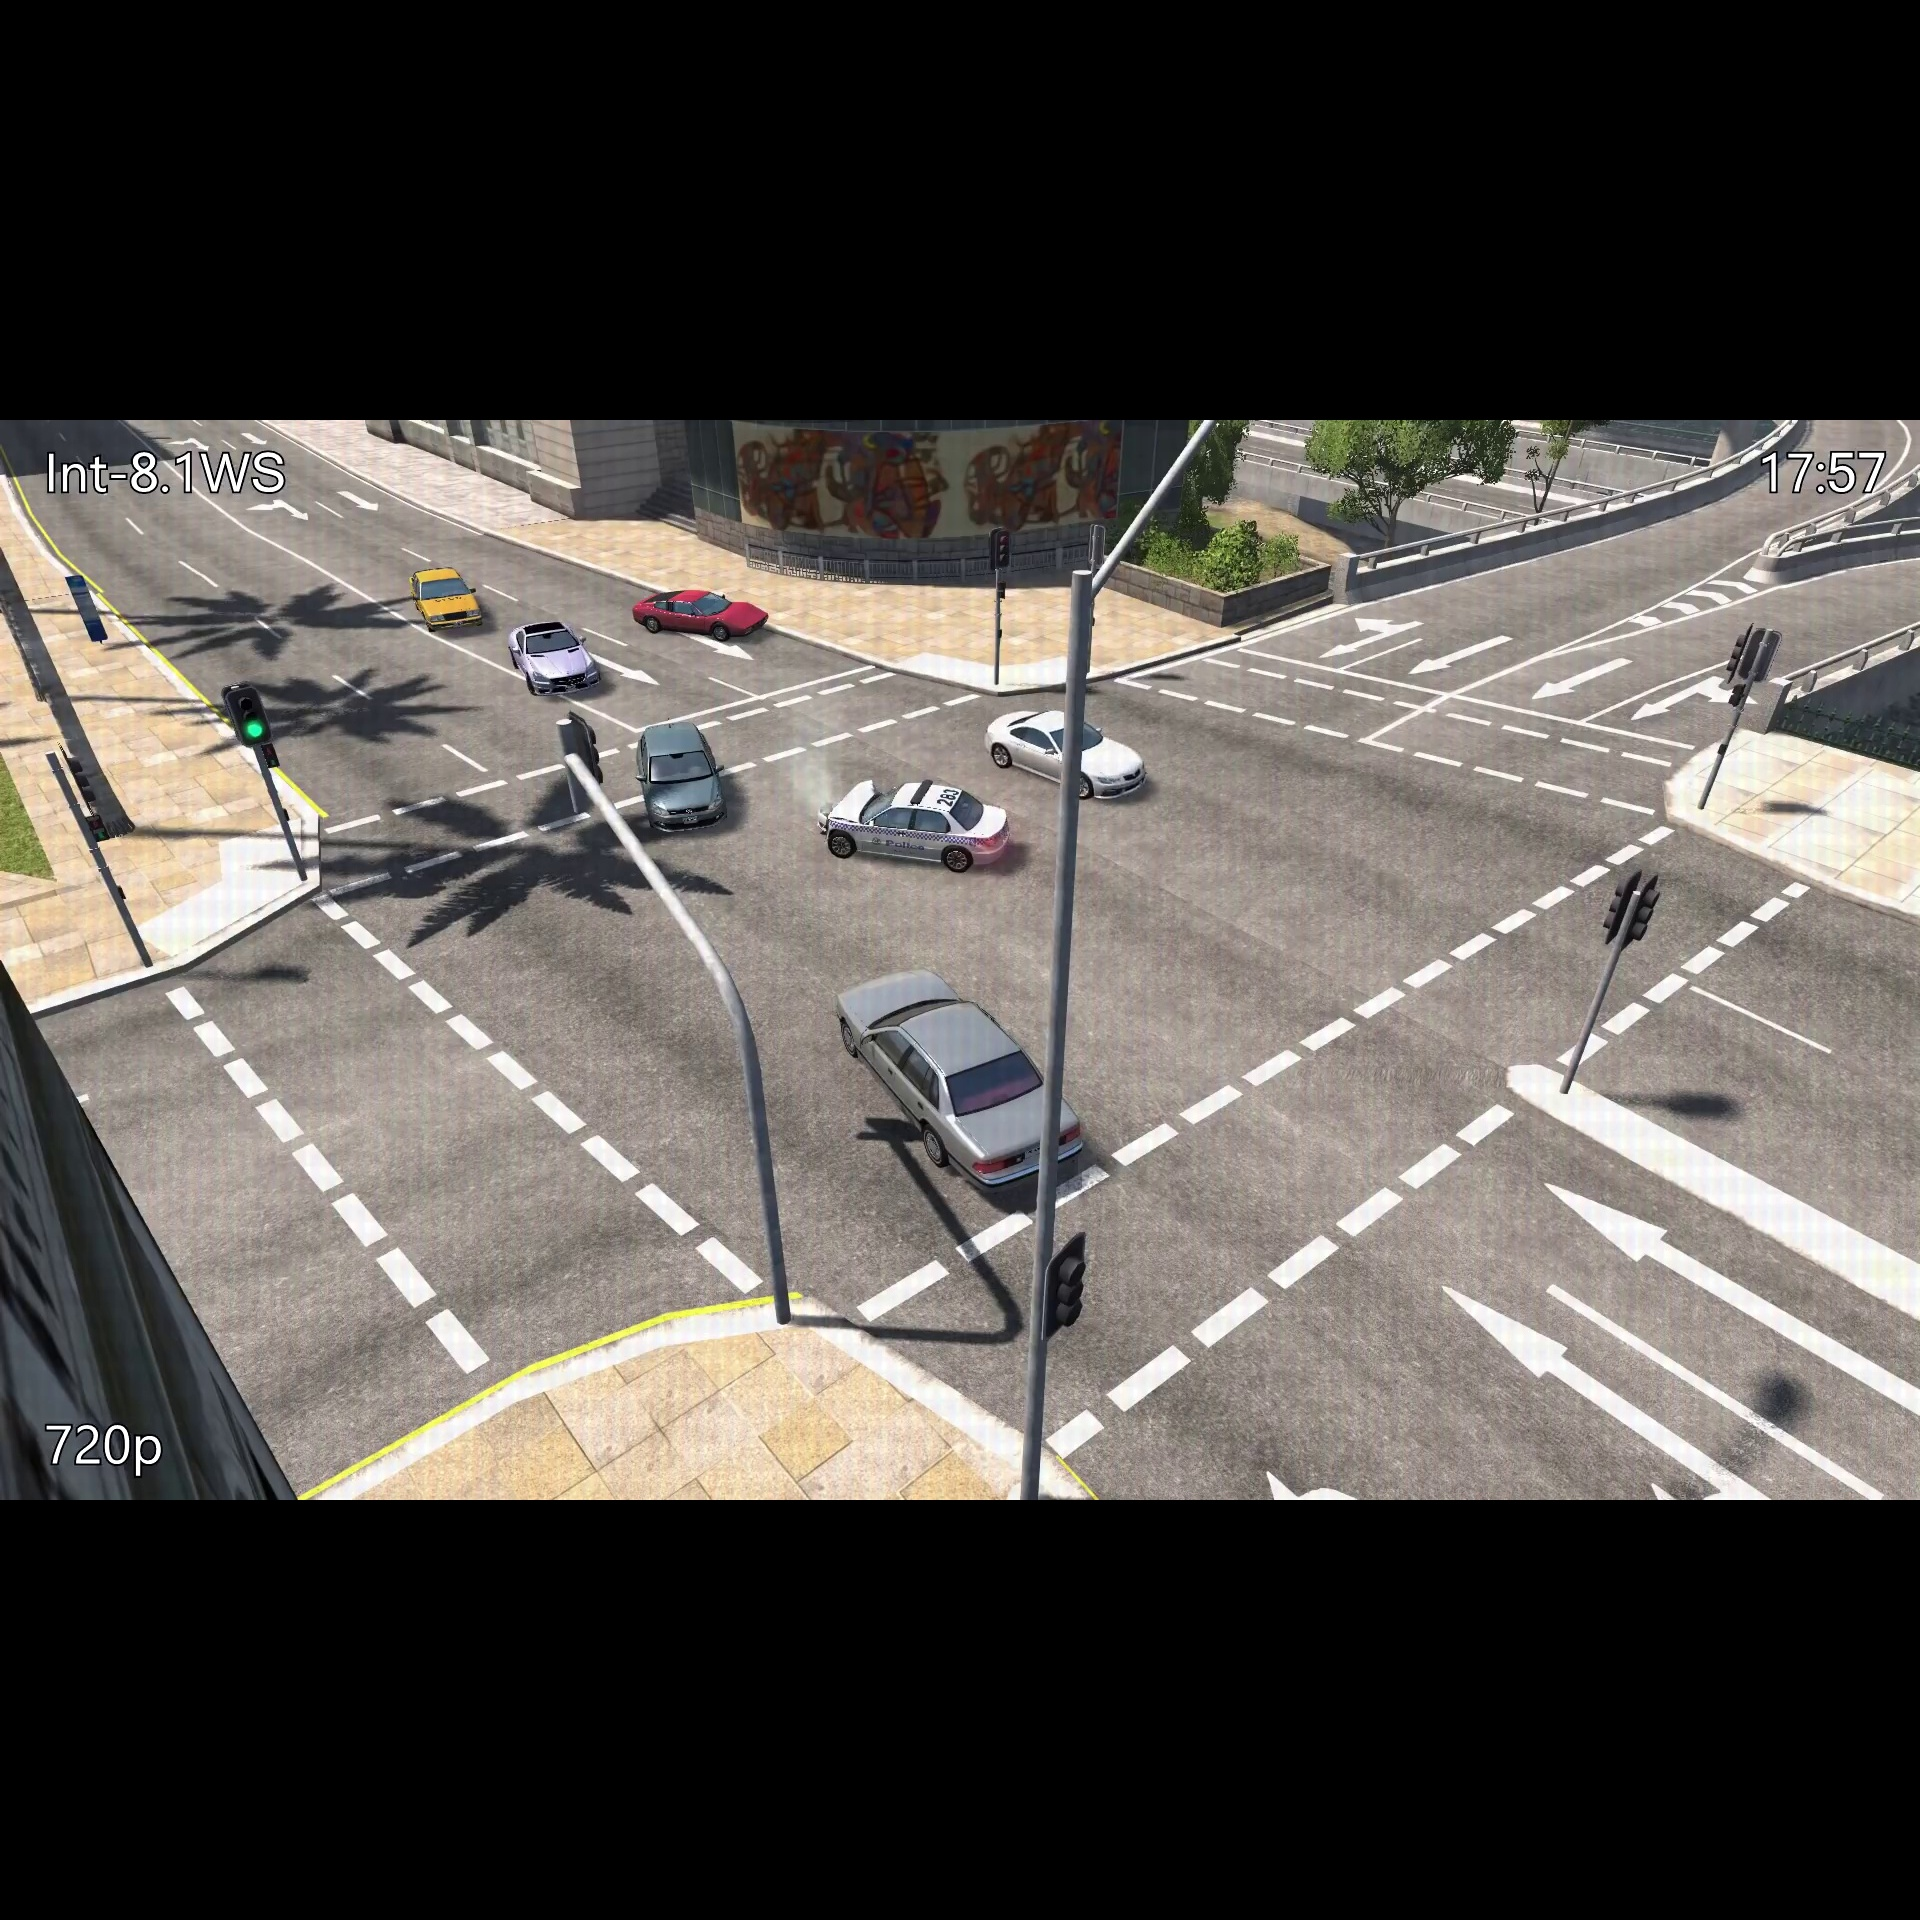vehicle: (832, 960, 1095, 1201), (816, 770, 1013, 876), (981, 703, 1148, 812), (629, 719, 731, 839), (624, 584, 775, 645), (501, 615, 607, 702), (410, 557, 484, 636)
